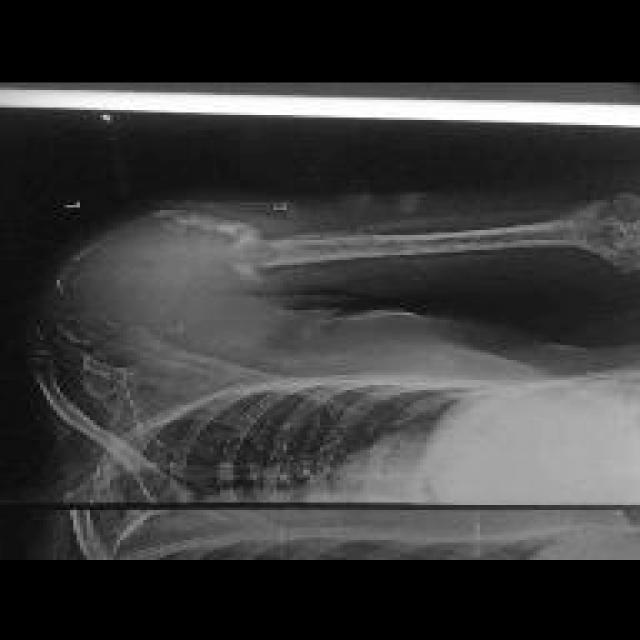bone-cancer: (32, 201, 295, 361)
